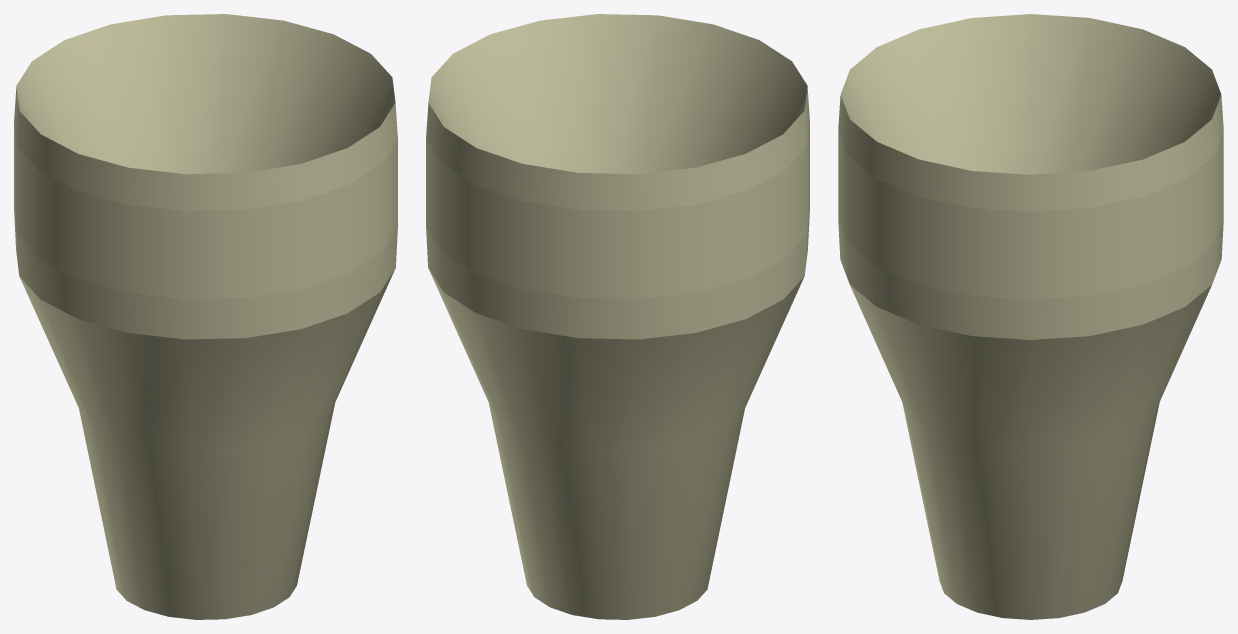
File: plate_large.fbx
The picture shows the model from 3 angles, left to right: view 1: azimuth 30°, elevation 25°; view 2: azimuth 150°, elevation 25°; view 3: azimuth 270°, elevation 25°; orthographic projection.
Parts seen in each view (by area): view 1: large_plate; view 2: large_plate; view 3: large_plate.
Part boxes in pixels (x1=…): large_plate: x1=14, y1=14, x2=397, y2=619; large_plate: x1=426, y1=14, x2=809, y2=619; large_plate: x1=838, y1=14, x2=1223, y2=619.
Size of the model in its own units: 1477 by 2057 by 1477.
